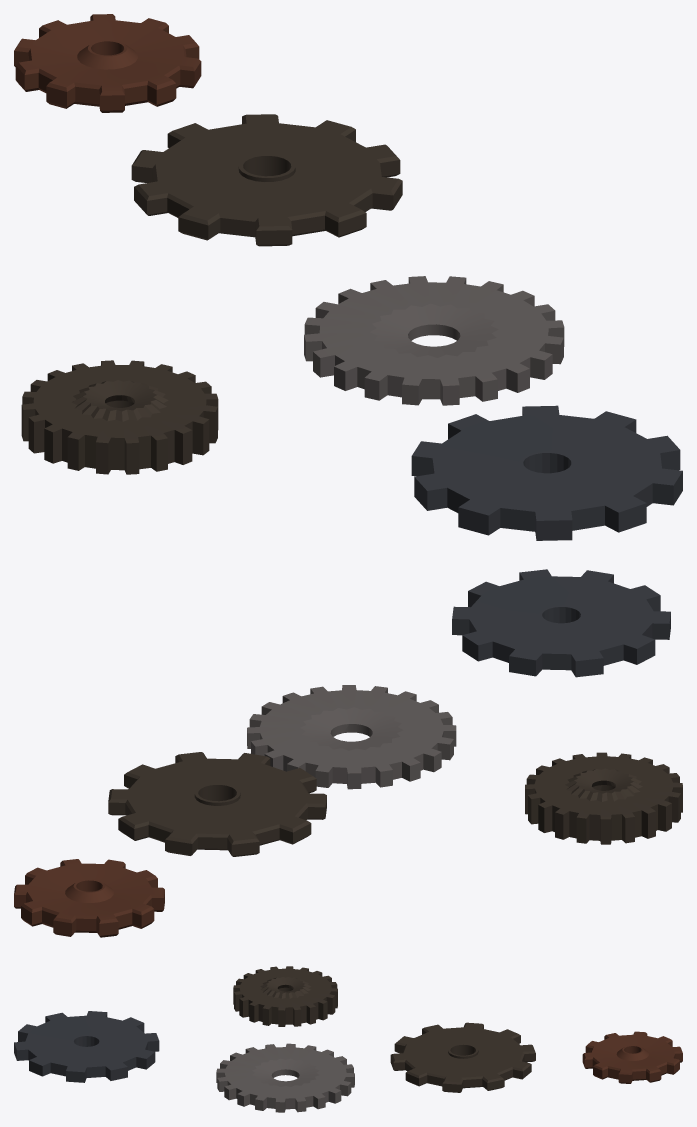
File: Cogs.fbx
3 renders of one model, top to bottom at view 1: azimuth 30°, elevation 25°; view 2: azimuth 150°, elevation 25°; view 3: azimuth 270°, elevation 25°, orthographic. The views are drawn at different scales.
Parts seen in each view (by area): view 1: pCylinder1, pCylinder3, pCylinder6, pCylinder7, pCylinder2; view 2: pCylinder1, pCylinder3, pCylinder6, pCylinder7, pCylinder2; view 3: pCylinder1, pCylinder3, pCylinder6, pCylinder7, pCylinder2.
Boxes of the visible parts, bbox=[...] form: pCylinder1: bbox=[411, 405, 682, 540]; pCylinder3: bbox=[131, 114, 402, 246]; pCylinder6: bbox=[304, 276, 564, 405]; pCylinder7: bbox=[21, 360, 218, 474]; pCylinder2: bbox=[14, 14, 201, 112]; pCylinder1: bbox=[452, 569, 670, 677]; pCylinder3: bbox=[108, 752, 326, 856]; pCylinder6: bbox=[247, 685, 456, 789]; pCylinder7: bbox=[525, 752, 682, 844]; pCylinder2: bbox=[14, 859, 164, 937]; pCylinder1: bbox=[14, 1011, 159, 1082]; pCylinder3: bbox=[390, 1022, 535, 1092]; pCylinder6: bbox=[216, 1043, 354, 1112]; pCylinder7: bbox=[233, 966, 337, 1026]; pCylinder2: bbox=[582, 1031, 682, 1083].
Bounding box in the file's own units: 5.18 × 0.7215 × 10.91.
